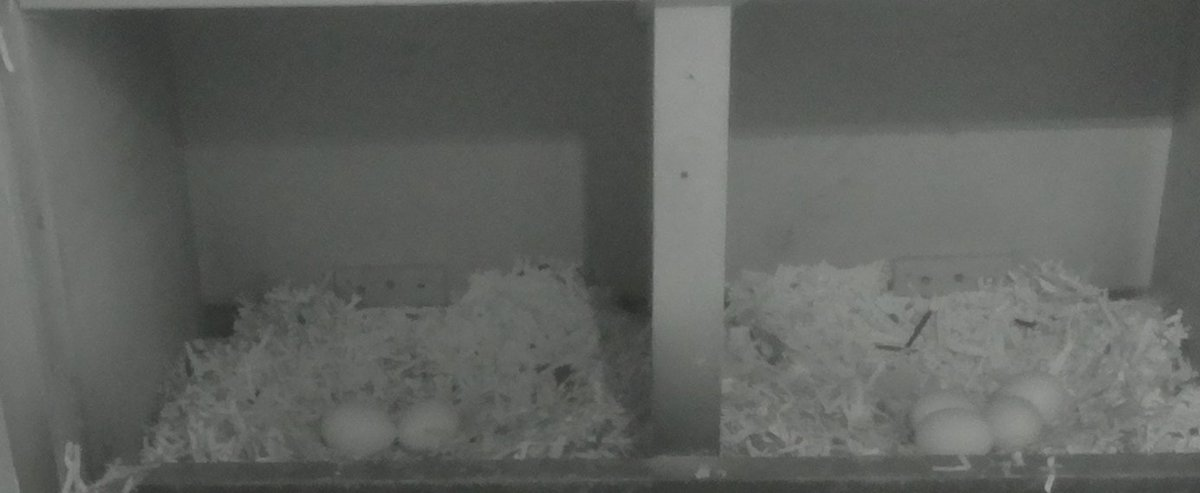egg: (315, 398, 403, 467), (994, 370, 1076, 438), (393, 393, 468, 462), (912, 405, 1000, 463), (985, 392, 1052, 455), (906, 389, 984, 431)
